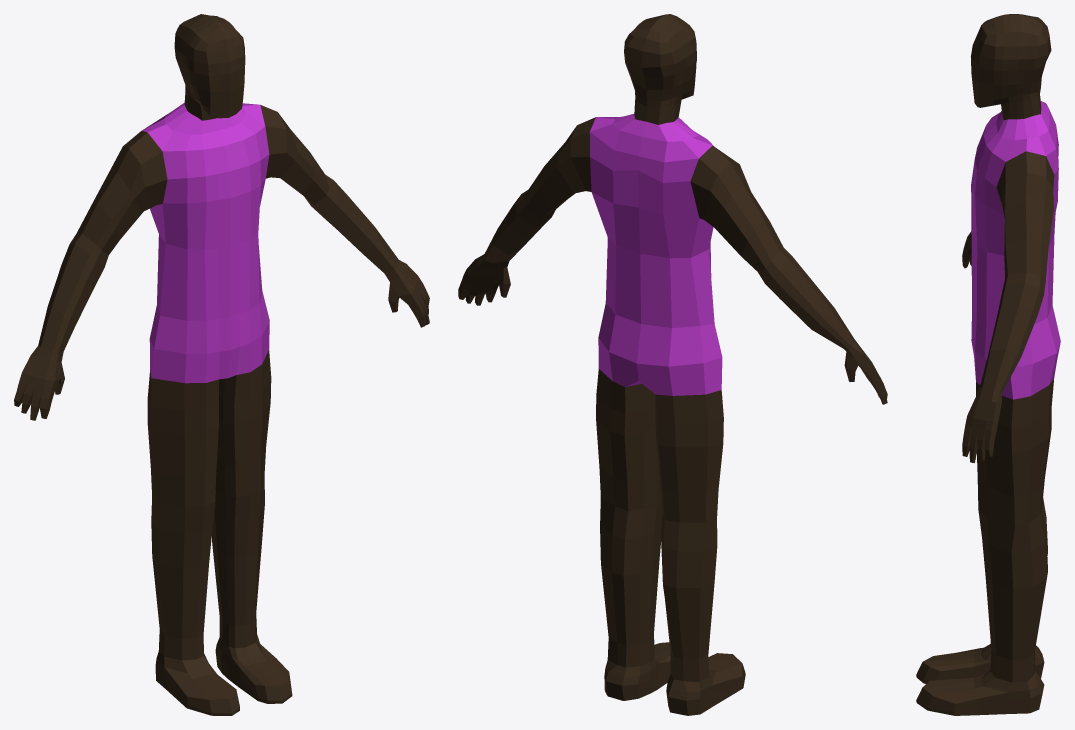
File: textTestMan.fbx
3 views of the same model, side by side, from view 1: azimuth 30°, elevation 25°; view 2: azimuth 150°, elevation 25°; view 3: azimuth 270°, elevation 25° (orthographic). The views are drawn at different scales.
Visible parts, largest first — view 1: mattest; view 2: mattest; view 3: mattest.
Boxes of the visible parts, <box> form: mattest: <box>14,14,429,715</box>; mattest: <box>458,14,887,715</box>; mattest: <box>916,14,1060,715</box>.
Bounding box in the file's own units: 132 × 200 × 38.8.
